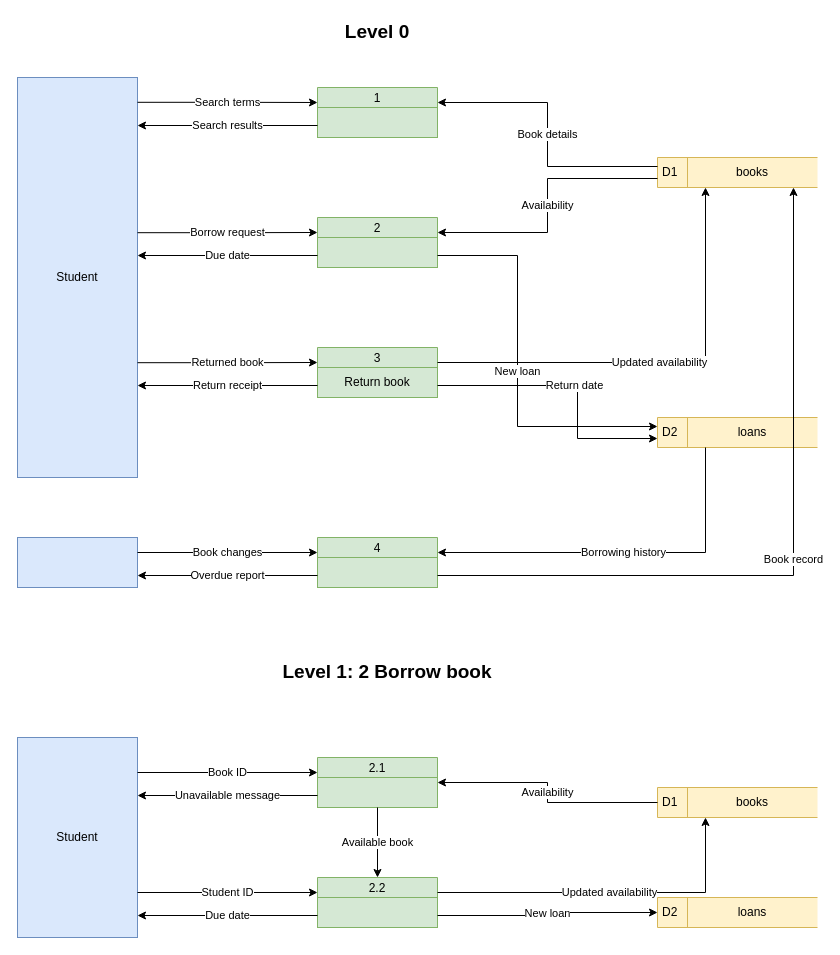
Image size: 840x955. Some labels were removed from this diagram. The box of each missing label's shape, as (x1, y1, x2, y2) in pixels:
Borrow book: (316, 236, 438, 268)
Check availability: (316, 776, 438, 808)
Librarian: (16, 536, 138, 588)
Record loan: (316, 896, 438, 928)
Search books: (316, 106, 438, 138)
Update records: (316, 556, 438, 588)
